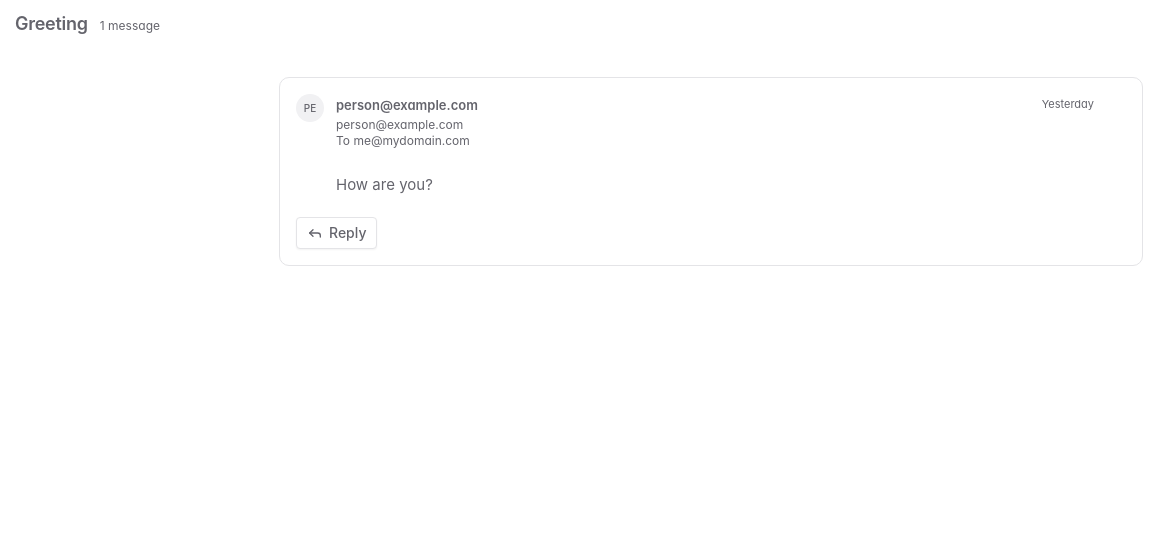
Test case: conversation reading and replying › preserves a failed reply draft and lets the user cancel it
Later steps or results of the test are not shown.
Expected: the text "How are you?" is shown, [336,175,433,194]
Click the button "Reply" at (337, 233), box [296,217,377,249]
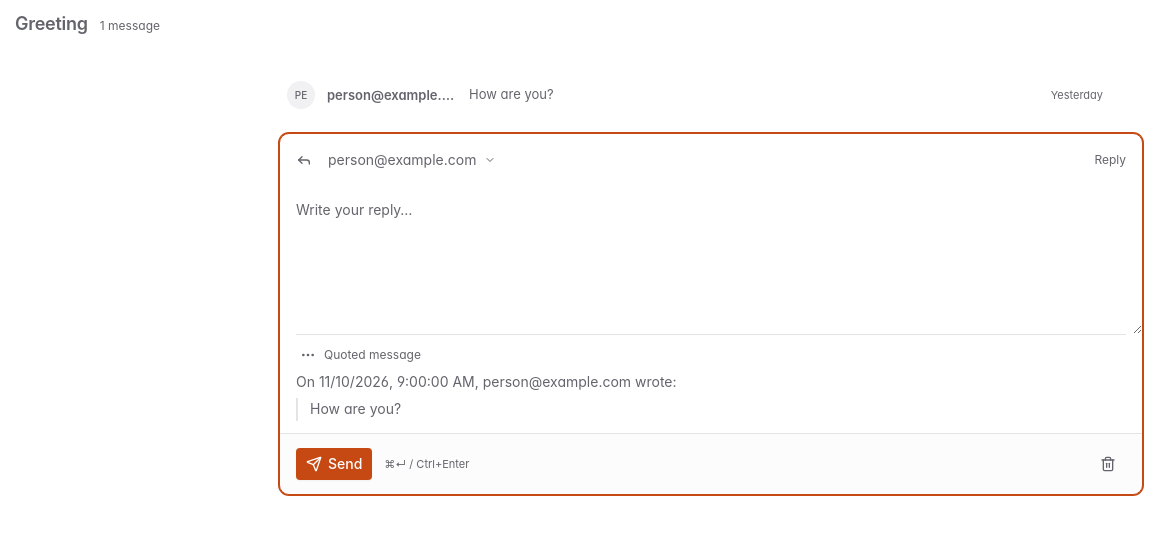
Type "Keep this draft" into the text box named "Message" at (711, 260), box [280,186,1142,334]
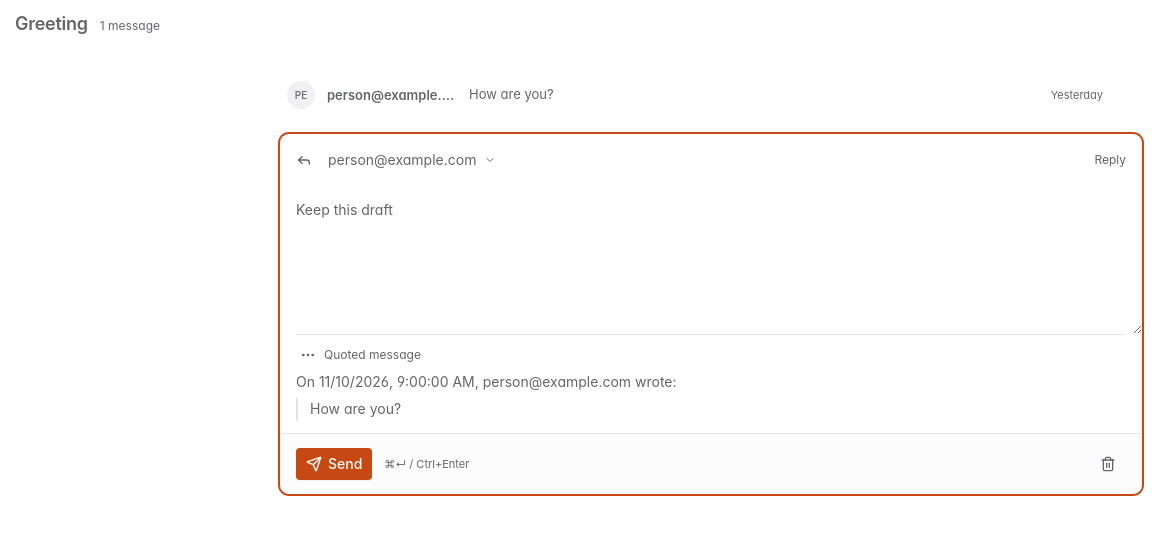
Click the button "Send" at (334, 464), box [296,448,372,480]
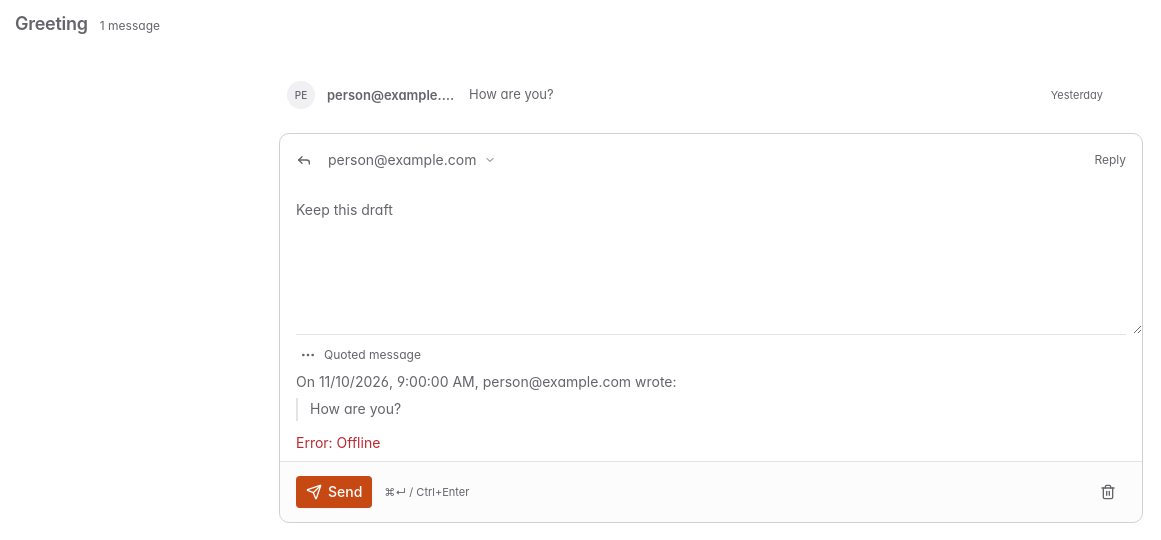
Now the button "Send" is enabled, box [296,476,372,508]
